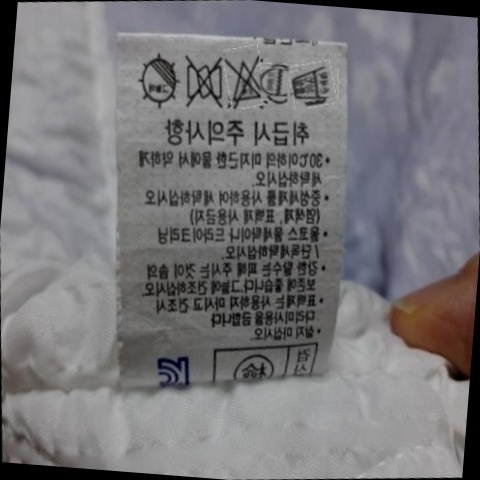DN_wring: (178, 54, 225, 107)
dry_clean: (260, 63, 293, 99)
hand_wash: (288, 59, 335, 105)
non_chlorine_bleach: (226, 54, 264, 106)
shade_dry: (133, 51, 182, 111)
